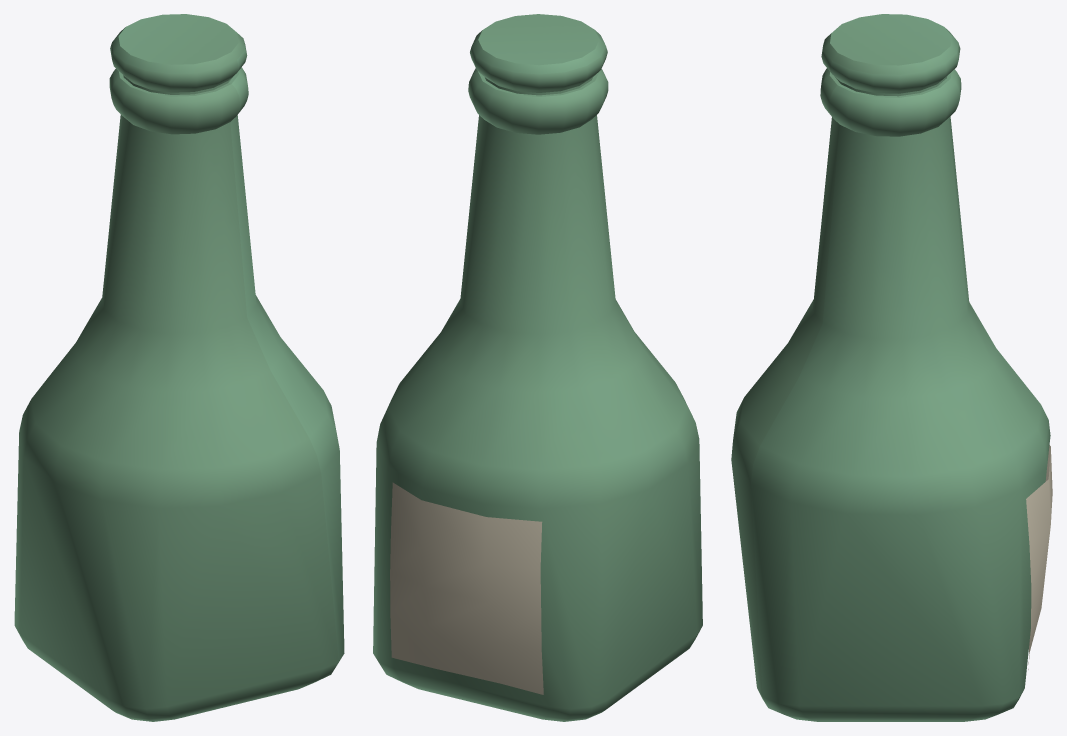
The model's file is M_Bottle_3.fbx.
3 renders of one model, left to right at view 1: azimuth 30°, elevation 25°; view 2: azimuth 150°, elevation 25°; view 3: azimuth 270°, elevation 25°, orthographic.
Visible parts, largest first — view 1: Bottle_3; view 2: Bottle_3; view 3: Bottle_3.
Part boxes in pixels (x1,y1,x2,y2): Bottle_3: [14, 14, 344, 721]; Bottle_3: [373, 14, 702, 721]; Bottle_3: [731, 14, 1052, 721].
Bounding box in the file's own units: 11.04 × 24.29 × 11.12.
